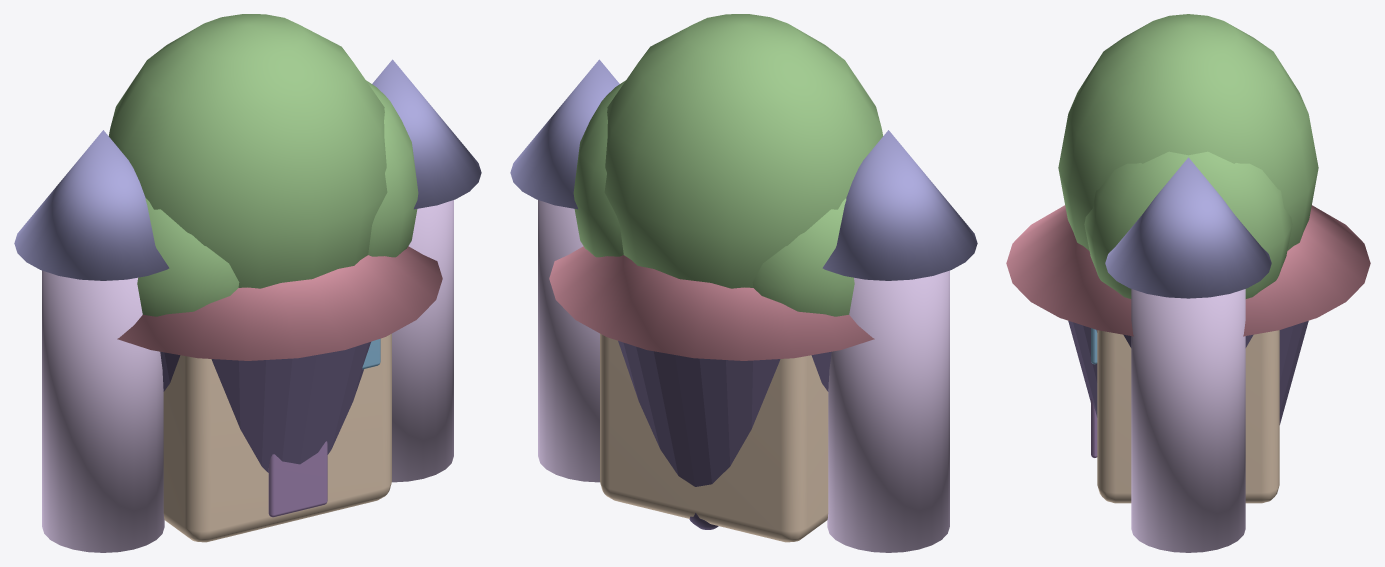
File: toybox.glb
The picture shows the model from 3 angles, left to right: view 1: azimuth 30°, elevation 25°; view 2: azimuth 150°, elevation 25°; view 3: azimuth 270°, elevation 25°; orthographic projection. The views are drawn at different scales.
Parts seen in each view (by area): view 1: castle, tree, cauldron; view 2: castle, tree, cauldron; view 3: castle, tree, cauldron.
Boxes of the visible parts, x1=… form: castle: x1=14, y1=59, x2=481, y2=552; tree: x1=109, y1=14, x2=418, y2=316; cauldron: x1=160, y1=342, x2=370, y2=472; castle: x1=510, y1=59, x2=977, y2=552; tree: x1=573, y1=14, x2=882, y2=316; cauldron: x1=618, y1=341, x2=831, y2=529; castle: x1=1006, y1=157, x2=1370, y2=552; tree: x1=1058, y1=14, x2=1318, y2=298; cauldron: x1=1068, y1=321, x2=1308, y2=424.
Size of the model in its own units: 1.84 by 1.99 by 1.4.
